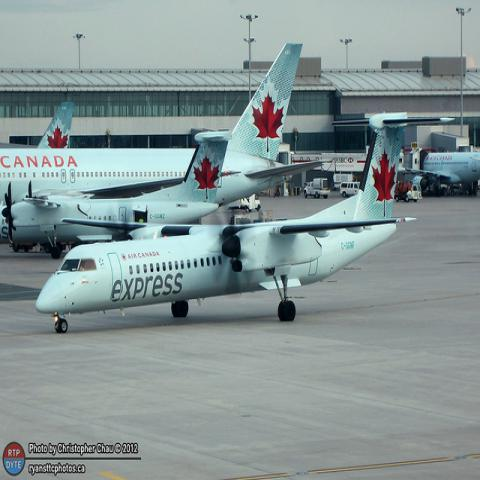truck: (227, 194, 261, 212), (304, 178, 331, 199), (333, 172, 356, 190), (339, 182, 360, 198), (408, 184, 422, 198)
